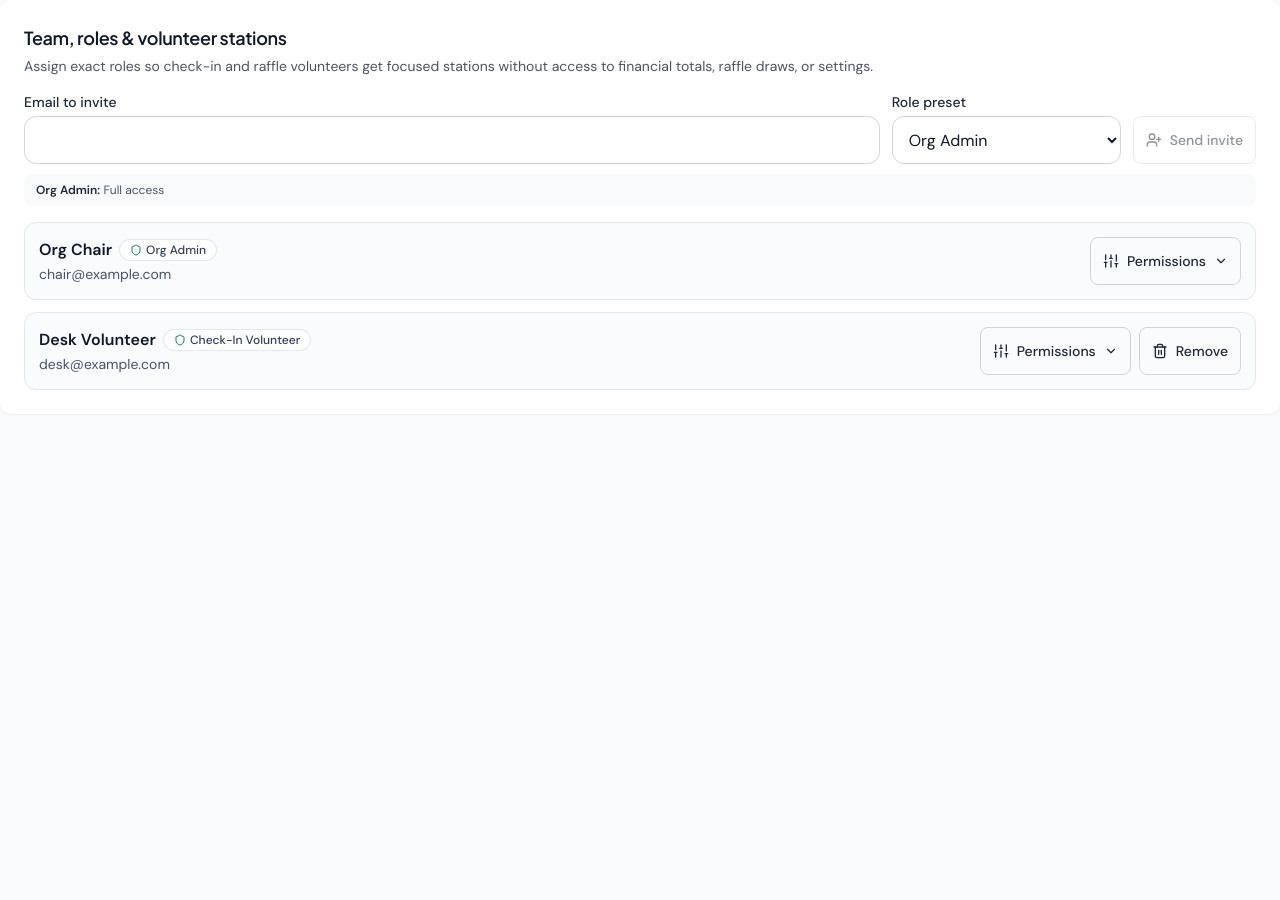
Test: TeamAccessPanel (5-role RBAC) › renders all 5 role presets and saves capability overrides & tournament scope via PATCH
Later steps or results of the test are not shown.
Click the button "Permissions" in the row of "Check-In Volunteer" at point(1055, 351), box left=980, top=327, right=1131, bottom=375
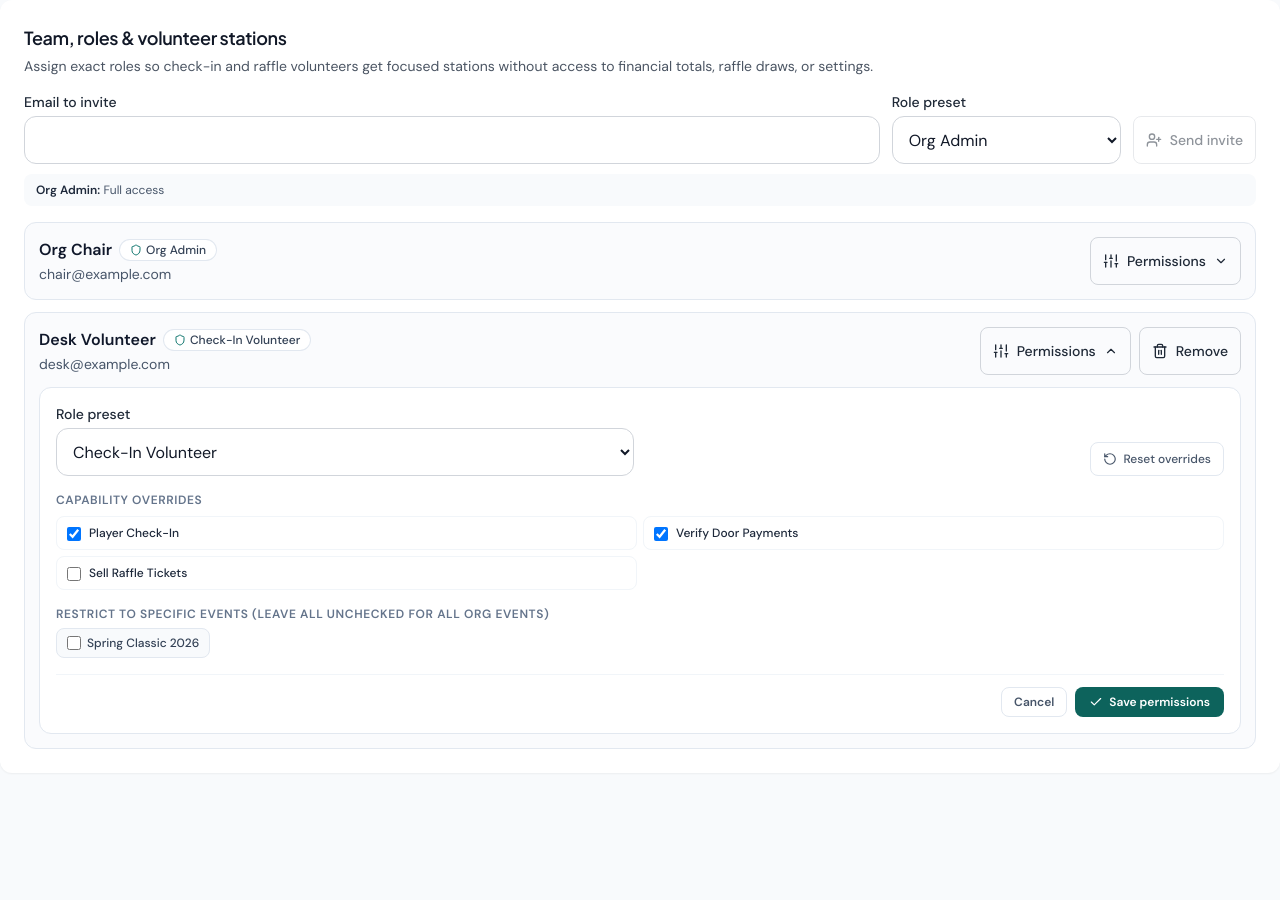
Expected: the element with test id "member-permissions-editor-2" is shown, left=39, top=387, right=1241, bottom=734
